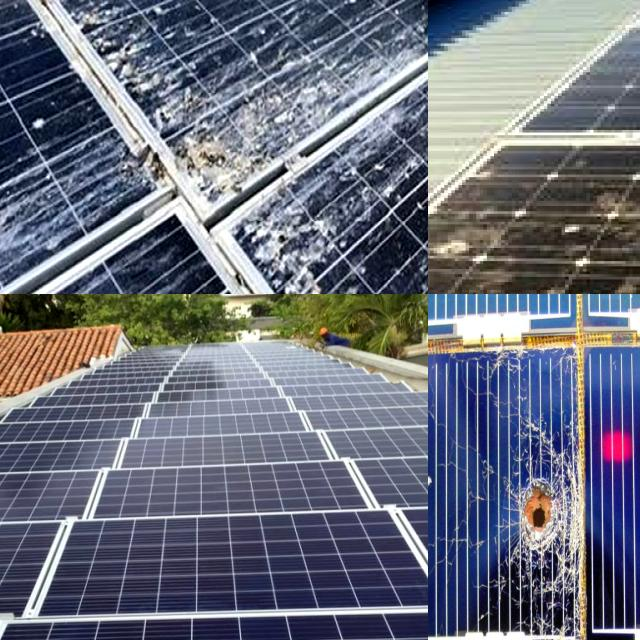bird: (157, 111, 266, 204), (235, 214, 358, 294), (97, 8, 163, 117), (272, 64, 376, 108), (428, 232, 501, 274), (9, 0, 81, 33), (16, 102, 61, 142), (591, 180, 640, 216), (391, 0, 428, 19)
crack: (0, 509, 428, 630), (63, 452, 411, 520), (0, 427, 166, 484), (330, 452, 428, 519), (120, 415, 346, 442), (317, 421, 428, 469)
hotspot: (428, 544, 463, 635)
shadow: (486, 426, 594, 592)
